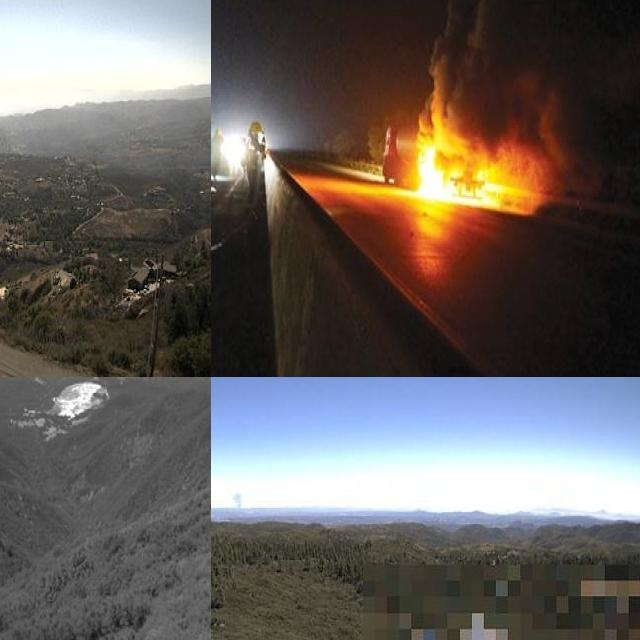fire: (412, 119, 485, 196)
smoke: (430, 0, 574, 156), (229, 489, 248, 519)
